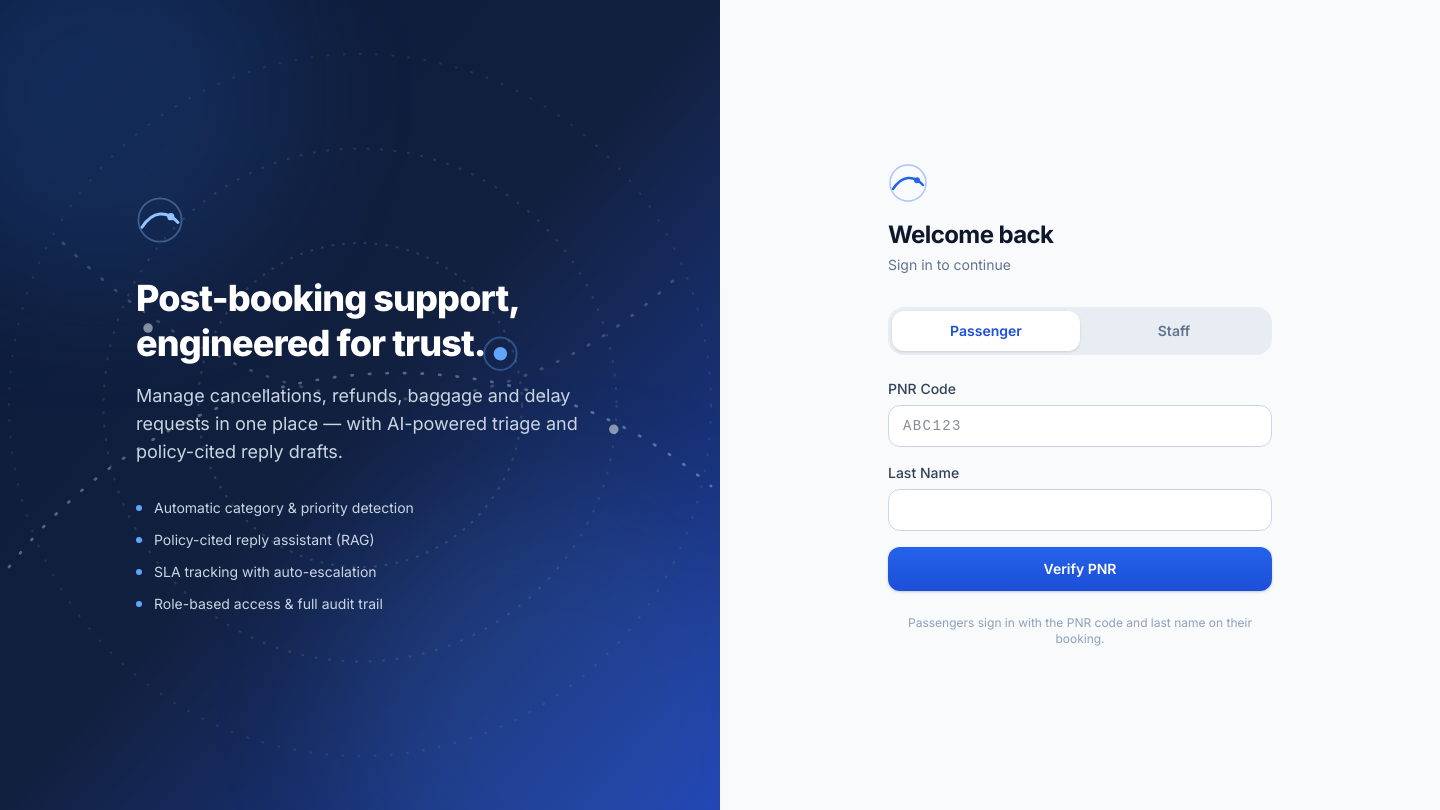
Scenario: LoginPage › switches to the staff tab showing email/password fields
Step 1. Click the button "Staff" → (1174, 331), box [1080,311,1268,351]
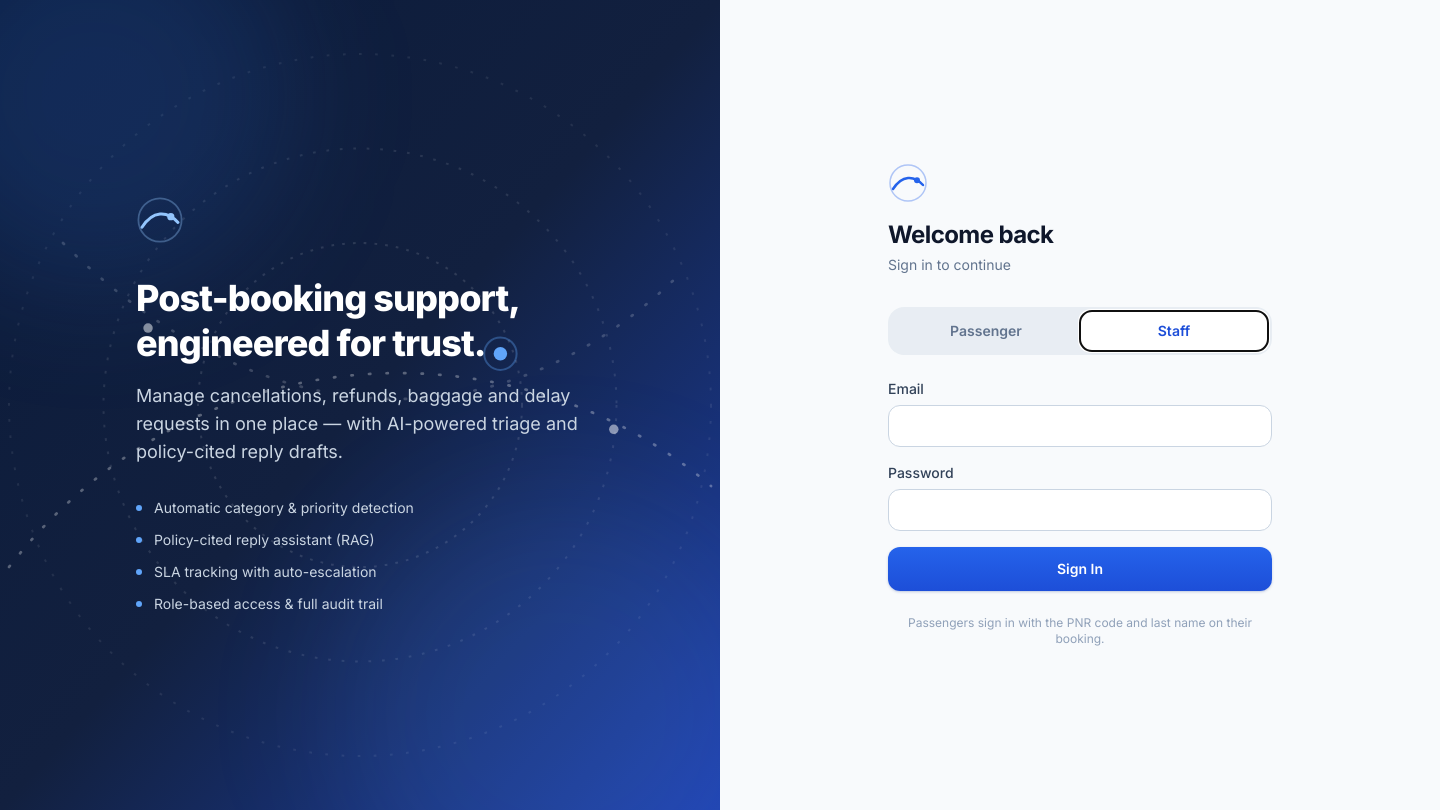
Check: the text "Email" is shown, box [888,380,924,397]
Check: the text "Password" is shown, box [888,464,954,481]
